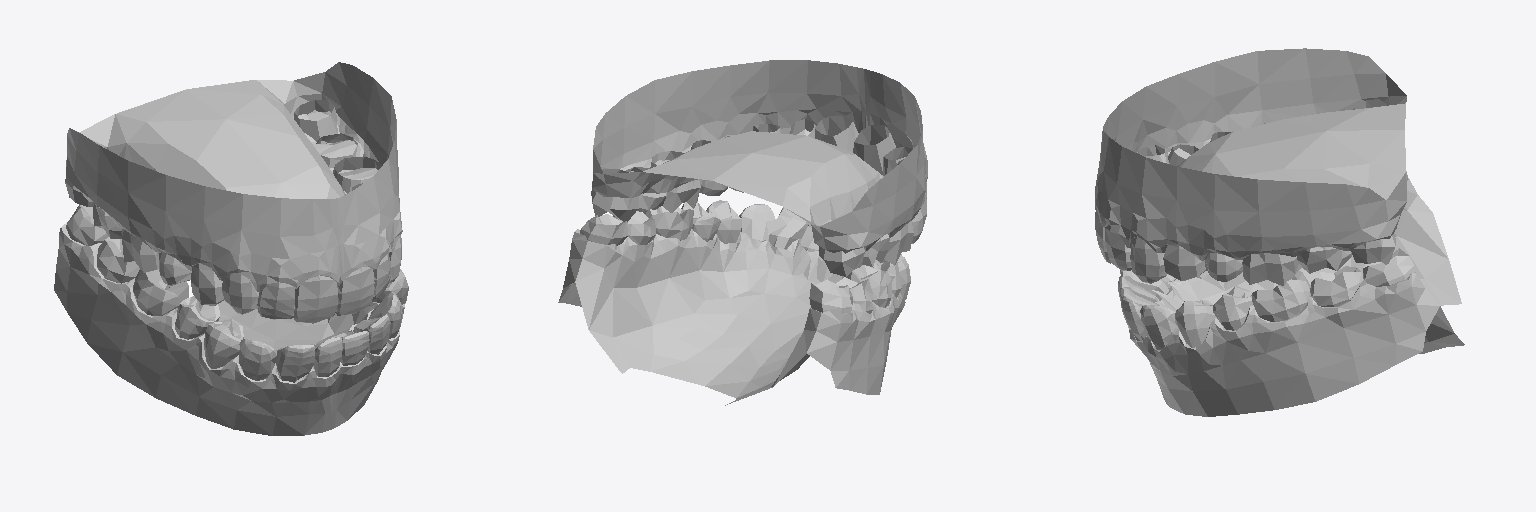
The model's file is Dentes.obj.
3 views of the same model, side by side, from view 1: azimuth 30°, elevation 25°; view 2: azimuth 150°, elevation 25°; view 3: azimuth 270°, elevation 25° (orthographic).
Visible parts, largest first — view 1: Dentes; view 2: Dentes; view 3: Dentes.
Boxes of the visible parts, <box> form: Dentes: <box>54,62,408,435</box>; Dentes: <box>558,60,927,405</box>; Dentes: <box>1095,48,1464,416</box>.
Size of the model in its own units: 0.0557 by 0.0505 by 0.0619.